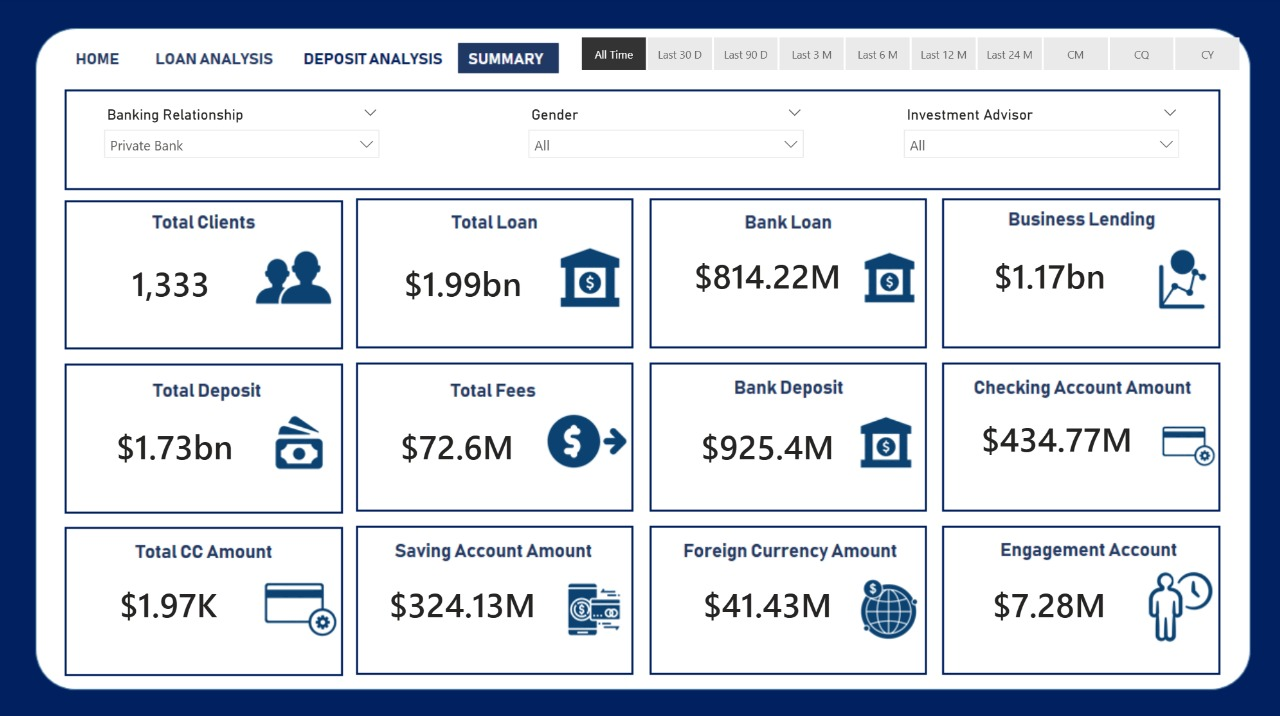

Layout of this report page (visuals, bound fields, positions):
{"tool":"powerbi","page":{"name":"Summary","canvas":[1280,720],"ordinal":3},"visuals":[{"type":"card","fields":{"Values":["DAX Measures.Engagment Length"]},"box":[946.3,546.4,198.2,114.9],"z":0},{"type":"card","fields":{"Values":["DAX Measures.Foreign Currency Account"]},"box":[667.2,546.4,198.2,114.9],"z":1000},{"type":"card","fields":{"Values":["DAX Measures.Bank Deposit"]},"box":[667.2,390.5,198.2,114.9],"z":2000},{"type":"card","fields":{"Values":["DAX Measures.Checking Accounts"]},"box":[953.4,382.3,198.2,114.9],"z":3000},{"type":"card","fields":{"Values":["DAX Measures.Bank Loan"]},"box":[667.2,220.5,198.2,114.9],"z":4000},{"type":"card","fields":{"Values":["DAX Measures.Business Lending"]},"box":[953.4,220.5,184.1,114.9],"z":5000},{"type":"card","fields":{"Values":["DAX Measures.Savings Account"]},"box":[360,546.4,207.6,114.9],"z":6000},{"type":"card","fields":{"Values":["DAX Measures.Total CC Amount"]},"box":[72.7,546.4,198.2,114.9],"z":7000},{"type":"card","fields":{"Values":["DAX Measures.Total Deposit"]},"box":[78.6,390.5,198.2,114.9],"z":8000},{"type":"card","fields":{"Values":["DAX Measures.Total Fees"]},"box":[365.9,390.5,184.1,114.9],"z":9000},{"type":"card","fields":{"Values":["DAX Measures.Total Clients"]},"box":[75,228.7,198.2,114.9],"z":10000},{"type":"card","fields":{"Values":["DAX Measures.Total Loan"]},"box":[365.9,228.7,195.8,114.9],"z":11000},{"type":"slicer","fields":{"Values":["Banking Relationship.Banking Relationship"]},"box":[98.5,104.3,292.9,75.7],"z":12000},{"type":"slicer","fields":{"Values":["Gender.Gender"]},"box":[518.9,104.3,292.9,75.7],"z":13000},{"type":"slicer","fields":{"Values":["Investment Advisor.Investment Advisor"]},"box":[891.3,104.3,292.9,75.7],"z":14000},{"type":"slicer","fields":{"Values":["Period.Name"]},"box":[555.2,34.6,702.1,46.6],"z":15000},{"type":"actionButton","box":[72.8,44.2,58.5,31],"z":16000},{"type":"actionButton","box":[306.9,44.7,119.4,31],"z":17000},{"type":"actionButton","box":[297.9,44.6,147.8,30.5],"z":18000},{"type":"actionButton","box":[157.1,44.6,125.5,30.5],"z":19000}]}

Visuals, with their boxes in screenshot pixels (x1, y1, x2, y2), scaled from the page's 1280x720 canvas onto the 1280x716 screenshot:
card - DAX Measures.Engagment Length: detection(946, 543, 1144, 658)
card - DAX Measures.Foreign Currency Account: detection(667, 543, 865, 658)
card - DAX Measures.Bank Deposit: detection(667, 388, 865, 503)
card - DAX Measures.Checking Accounts: detection(953, 380, 1152, 494)
card - DAX Measures.Bank Loan: detection(667, 219, 865, 334)
card - DAX Measures.Business Lending: detection(953, 219, 1138, 334)
card - DAX Measures.Savings Account: detection(360, 543, 568, 658)
card - DAX Measures.Total CC Amount: detection(73, 543, 271, 658)
card - DAX Measures.Total Deposit: detection(79, 388, 277, 503)
card - DAX Measures.Total Fees: detection(366, 388, 550, 503)
card - DAX Measures.Total Clients: detection(75, 227, 273, 342)
card - DAX Measures.Total Loan: detection(366, 227, 562, 342)
slicer - Banking Relationship.Banking Relationship: detection(98, 104, 391, 179)
slicer - Gender.Gender: detection(519, 104, 812, 179)
slicer - Investment Advisor.Investment Advisor: detection(891, 104, 1184, 179)
slicer - Period.Name: detection(555, 34, 1257, 81)
actionButton: detection(73, 44, 131, 75)
actionButton: detection(307, 44, 426, 75)
actionButton: detection(298, 44, 446, 75)
actionButton: detection(157, 44, 283, 75)
